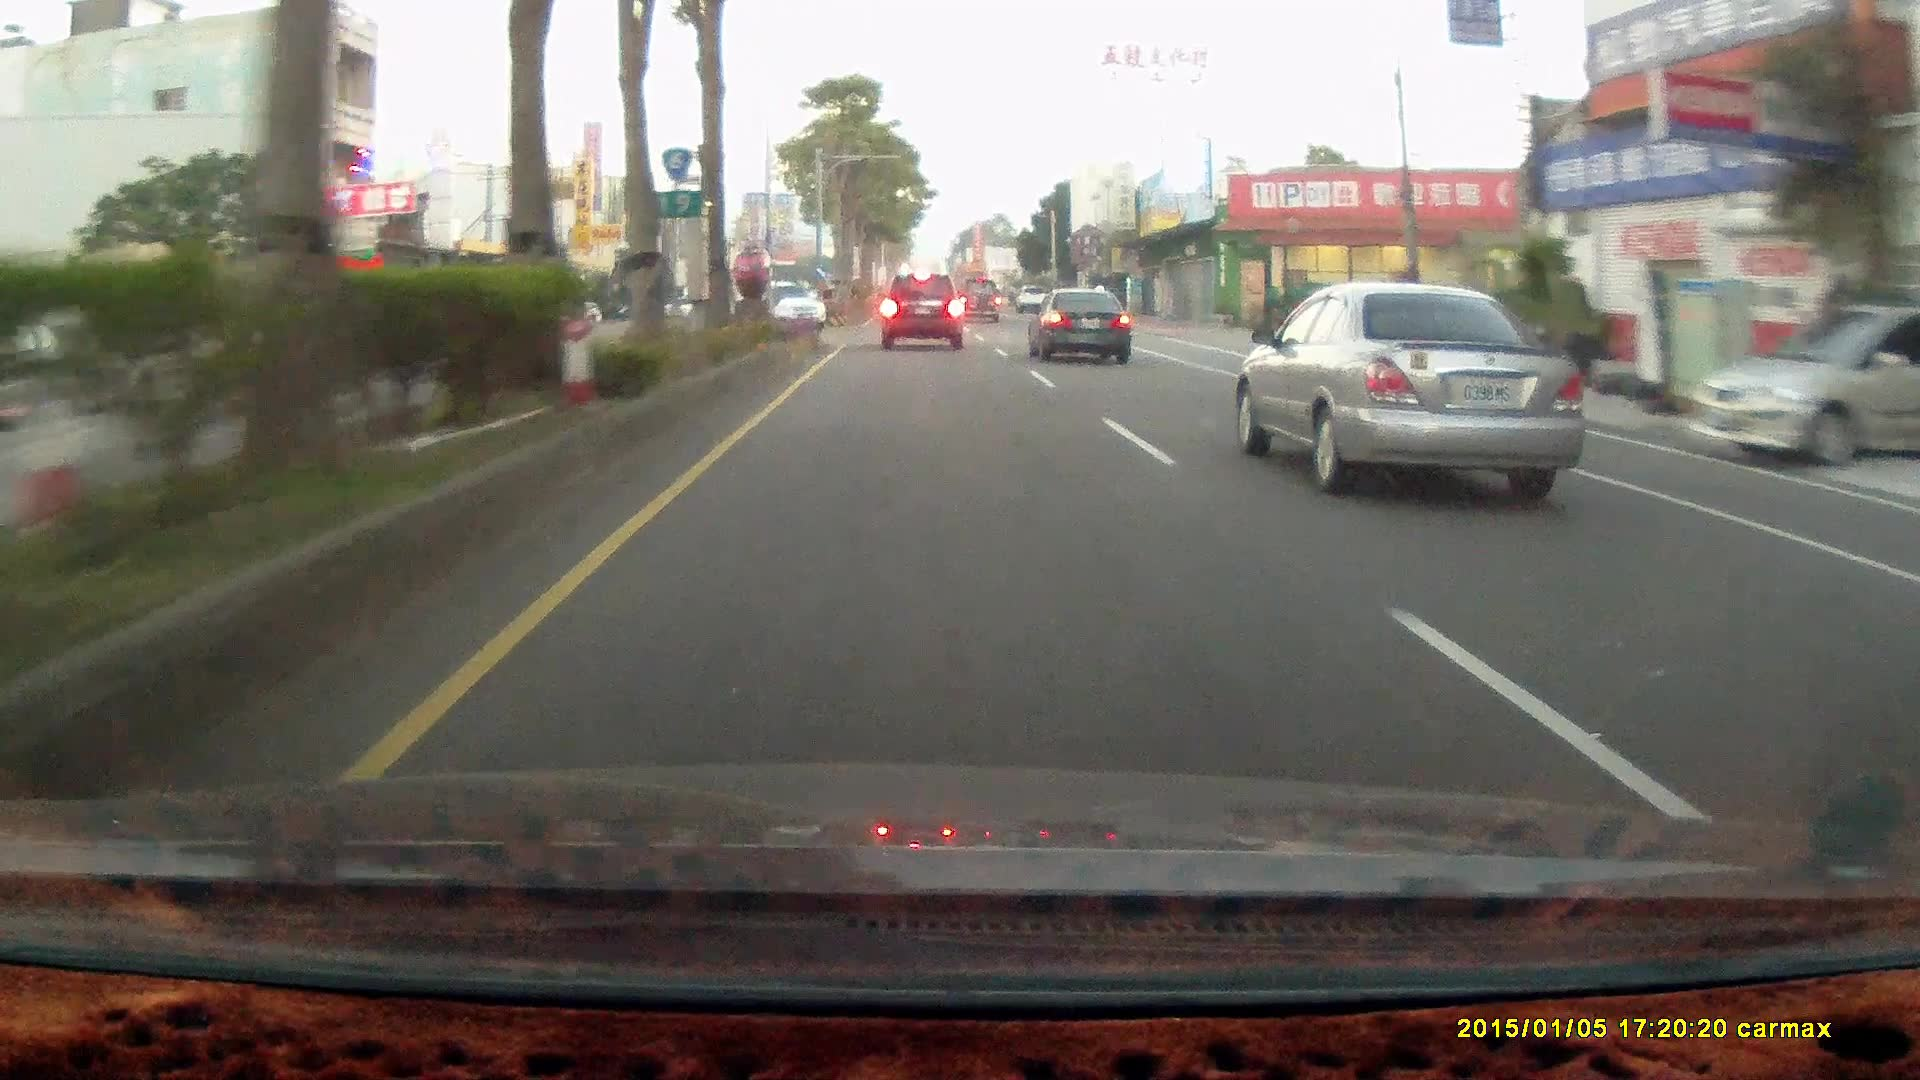vehicle: (1238, 290, 1578, 504), (1683, 295, 1919, 465), (1700, 307, 1920, 477), (1029, 286, 1137, 365), (1025, 284, 1129, 363), (880, 273, 968, 357), (880, 272, 960, 347), (764, 280, 825, 335), (956, 276, 1002, 323)
